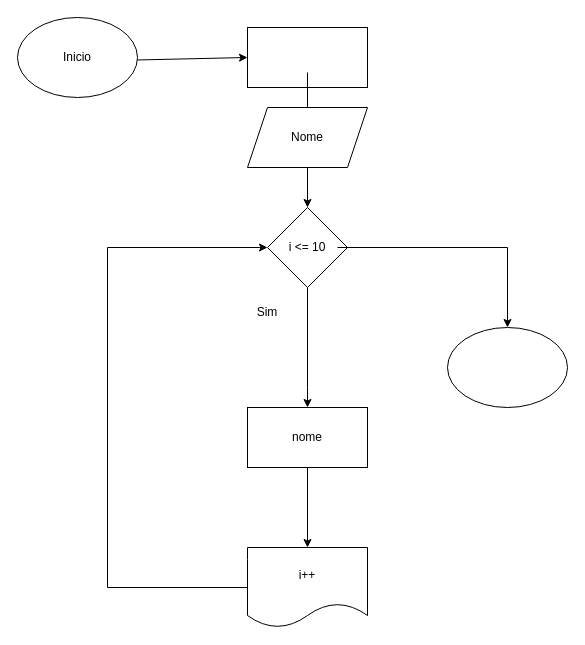
This 585x645 diagram has some shape labels left out. Here are the shapes that lost their labels. From the top down, the centre of each, then its label:
At pixel 307 57: "i = 1".
At pixel 507 367: "Fim".
